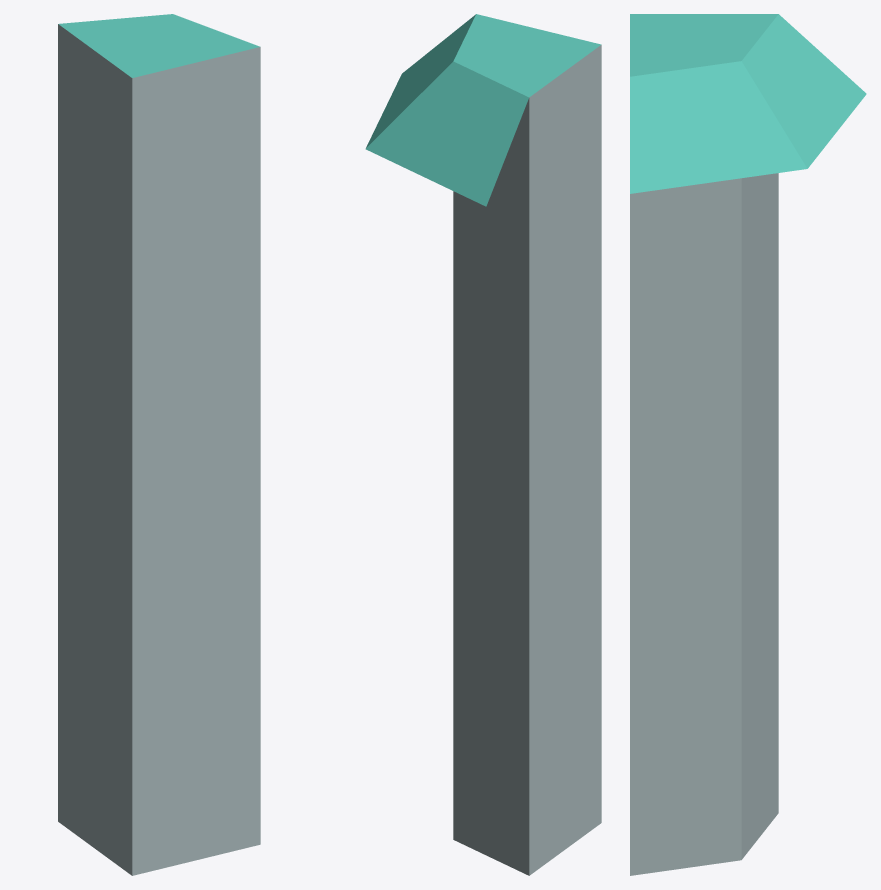
Rendered from cliff_cornerTop_stone.glb.
3 renders of one model, left to right at view 1: azimuth 30°, elevation 25°; view 2: azimuth 150°, elevation 25°; view 3: azimuth 270°, elevation 25°, orthographic. The views are drawn at different scales.
Visible parts, largest first — view 1: cliff_cornerTop_stone; view 2: cliff_cornerTop_stone; view 3: cliff_cornerTop_stone.
Part boxes in pixels (x1,y1,x2,y2): cliff_cornerTop_stone: [58, 14, 260, 875]; cliff_cornerTop_stone: [365, 14, 601, 875]; cliff_cornerTop_stone: [630, 14, 866, 875].
Size of the model in its own units: 0.2685 by 1 by 0.2685.
